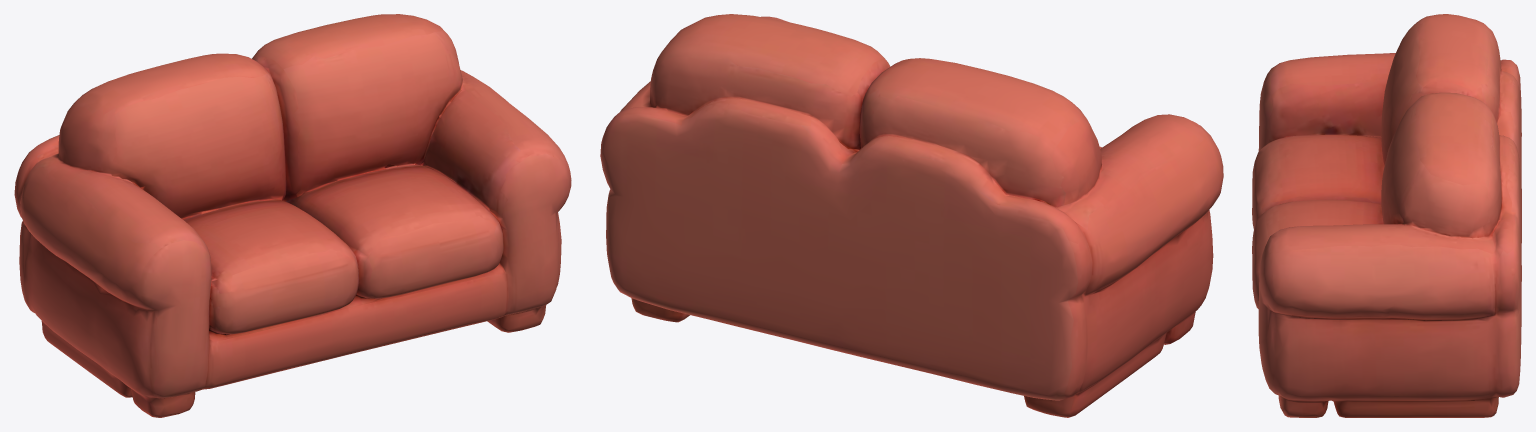
Rendered from sofa_cozy.glb.
3 views of the same model, side by side, from view 1: azimuth 30°, elevation 25°; view 2: azimuth 150°, elevation 25°; view 3: azimuth 270°, elevation 25° (orthographic). The views are drawn at different scales.
Parts seen in each view (by area): view 1: textured_mesh.obj; view 2: textured_mesh.obj; view 3: textured_mesh.obj.
Part boxes in pixels (bbox=[...]): textured_mesh.obj: bbox=[14, 14, 571, 417]; textured_mesh.obj: bbox=[600, 14, 1223, 417]; textured_mesh.obj: bbox=[1252, 14, 1521, 417].
Size of what is drawn, in the model's own units: 1.82 by 0.9999 by 0.9799.
Materials: 1 (1 with a texture image).
